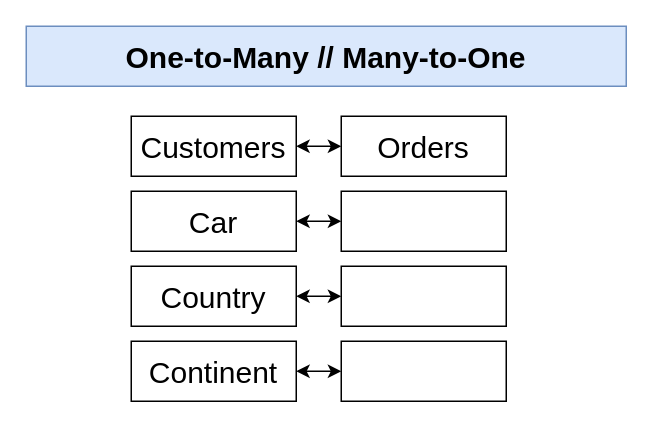
This 653x428 diagram has some shape labels left out. Each missing label, with the box of its shape:
Cities: (340, 265, 506, 326)
Mountains: (340, 340, 506, 401)
Parts: (340, 190, 506, 251)
